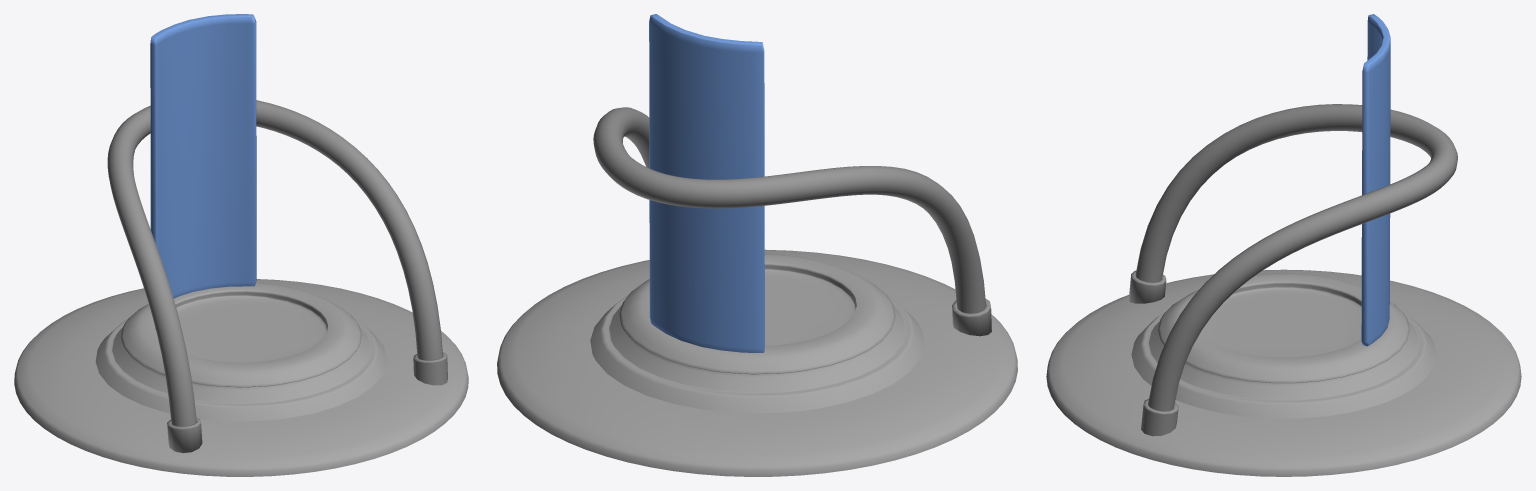
File: teleport.fbx
3 renders of one model, left to right at view 1: azimuth 30°, elevation 25°; view 2: azimuth 150°, elevation 25°; view 3: azimuth 270°, elevation 25°, orthographic. The views are drawn at different scales.
Visible parts, largest first — view 1: altparca, cam, ustparca, boru; view 2: altparca, cam, ustparca, boru; view 3: altparca, ustparca, boru, cam.
Part boxes in pixels (x1=…): altparca: x1=14, y1=279, x2=468, y2=476; cam: x1=150, y1=14, x2=256, y2=298; ustparca: x1=95, y1=283, x2=387, y2=421; boru: x1=107, y1=100, x2=447, y2=453; altparca: x1=497, y1=249, x2=1017, y2=476; cam: x1=649, y1=14, x2=764, y2=352; ustparca: x1=590, y1=254, x2=924, y2=413; boru: x1=593, y1=107, x2=991, y2=336; altparca: x1=1046, y1=269, x2=1521, y2=476; ustparca: x1=1131, y1=273, x2=1436, y2=418; boru: x1=1128, y1=104, x2=1457, y2=436; cam: x1=1361, y1=14, x2=1390, y2=346.
Size of the model in its own units: 423 by 333 by 423.
